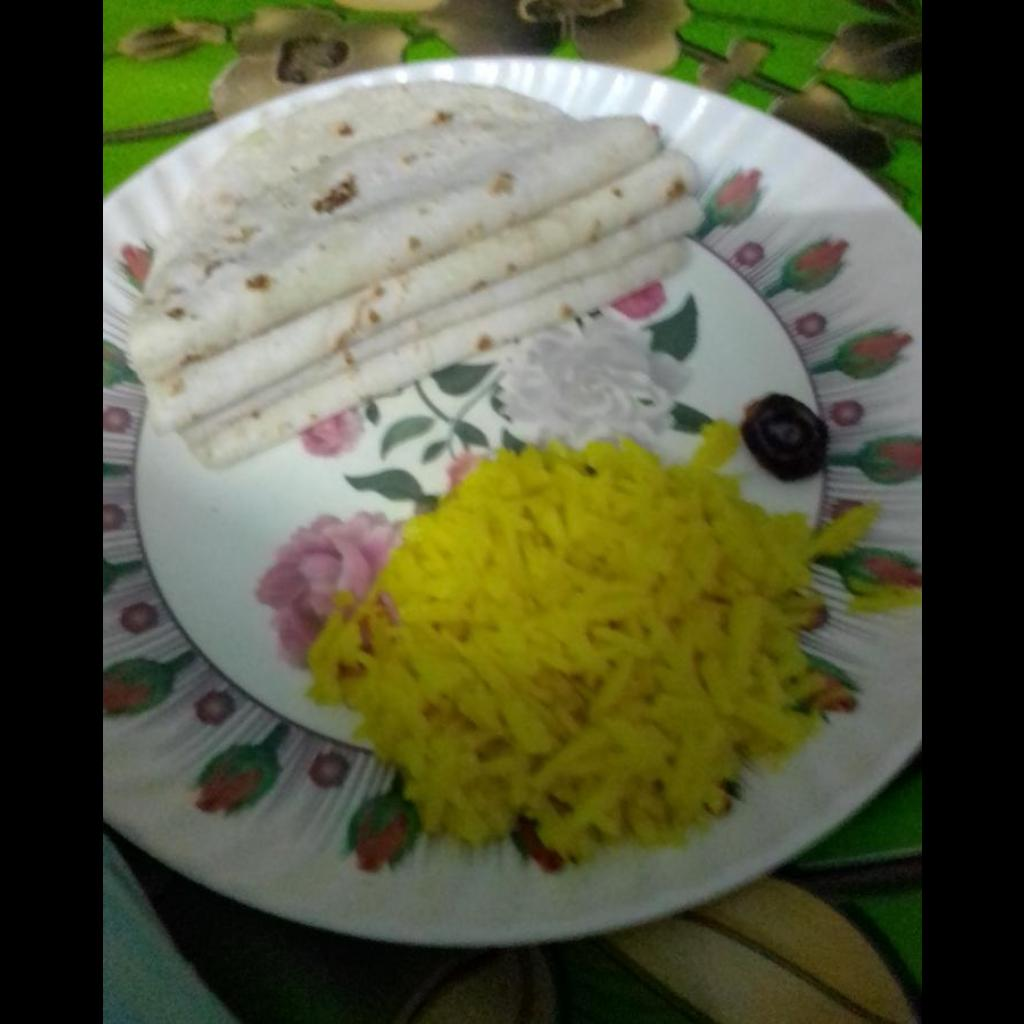ruti: (122, 82, 706, 471)
vaji: (308, 441, 827, 856)
